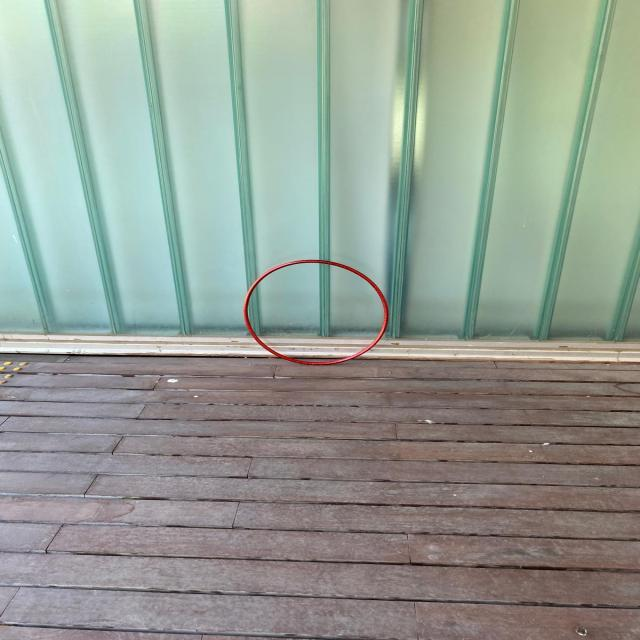Circle: (241, 258, 391, 368)
